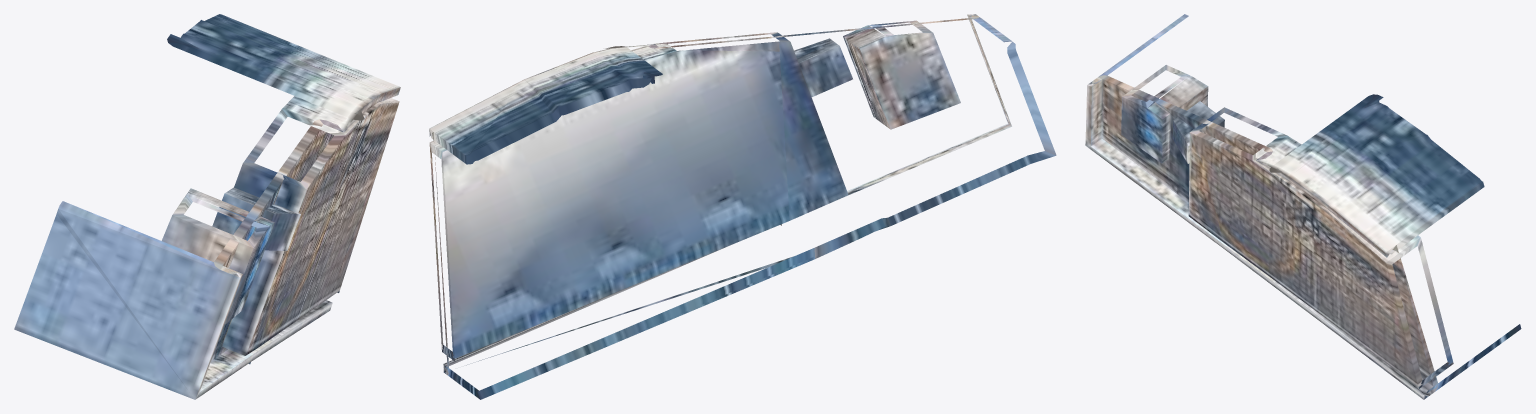
File: congresso_tile_55.glb
The picture shows the model from 3 angles, left to right: view 1: azimuth 30°, elevation 25°; view 2: azimuth 150°, elevation 25°; view 3: azimuth 270°, elevation 25°; orthographic projection. The views are drawn at different scales.
Size of the model in its own units: 29.93 by 18.47 by 30.57.
Materials: 1 (1 with a texture image).
